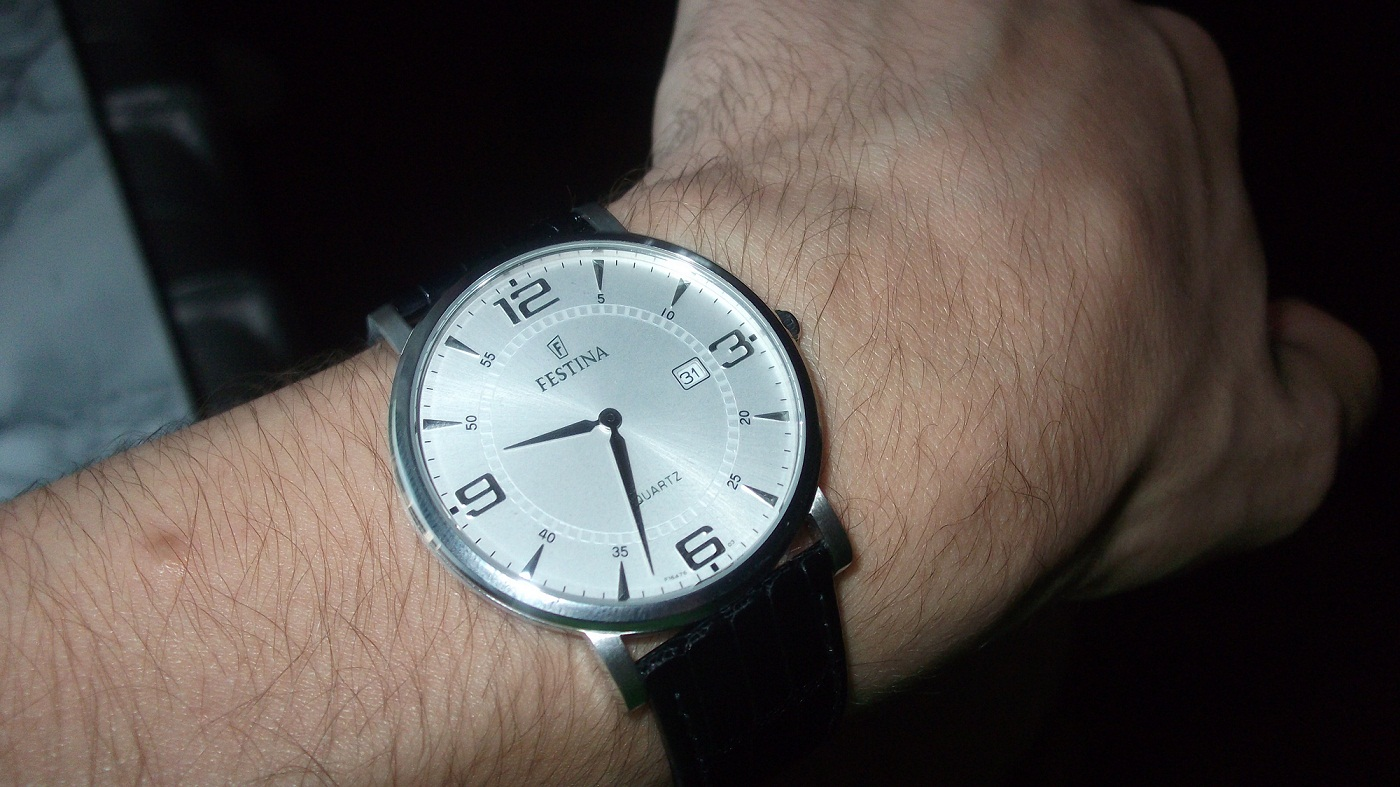clock: (416, 241, 805, 603)
